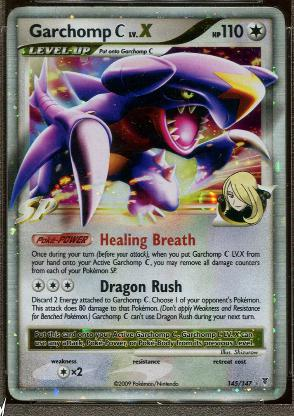Card: (4, 5, 286, 401)
